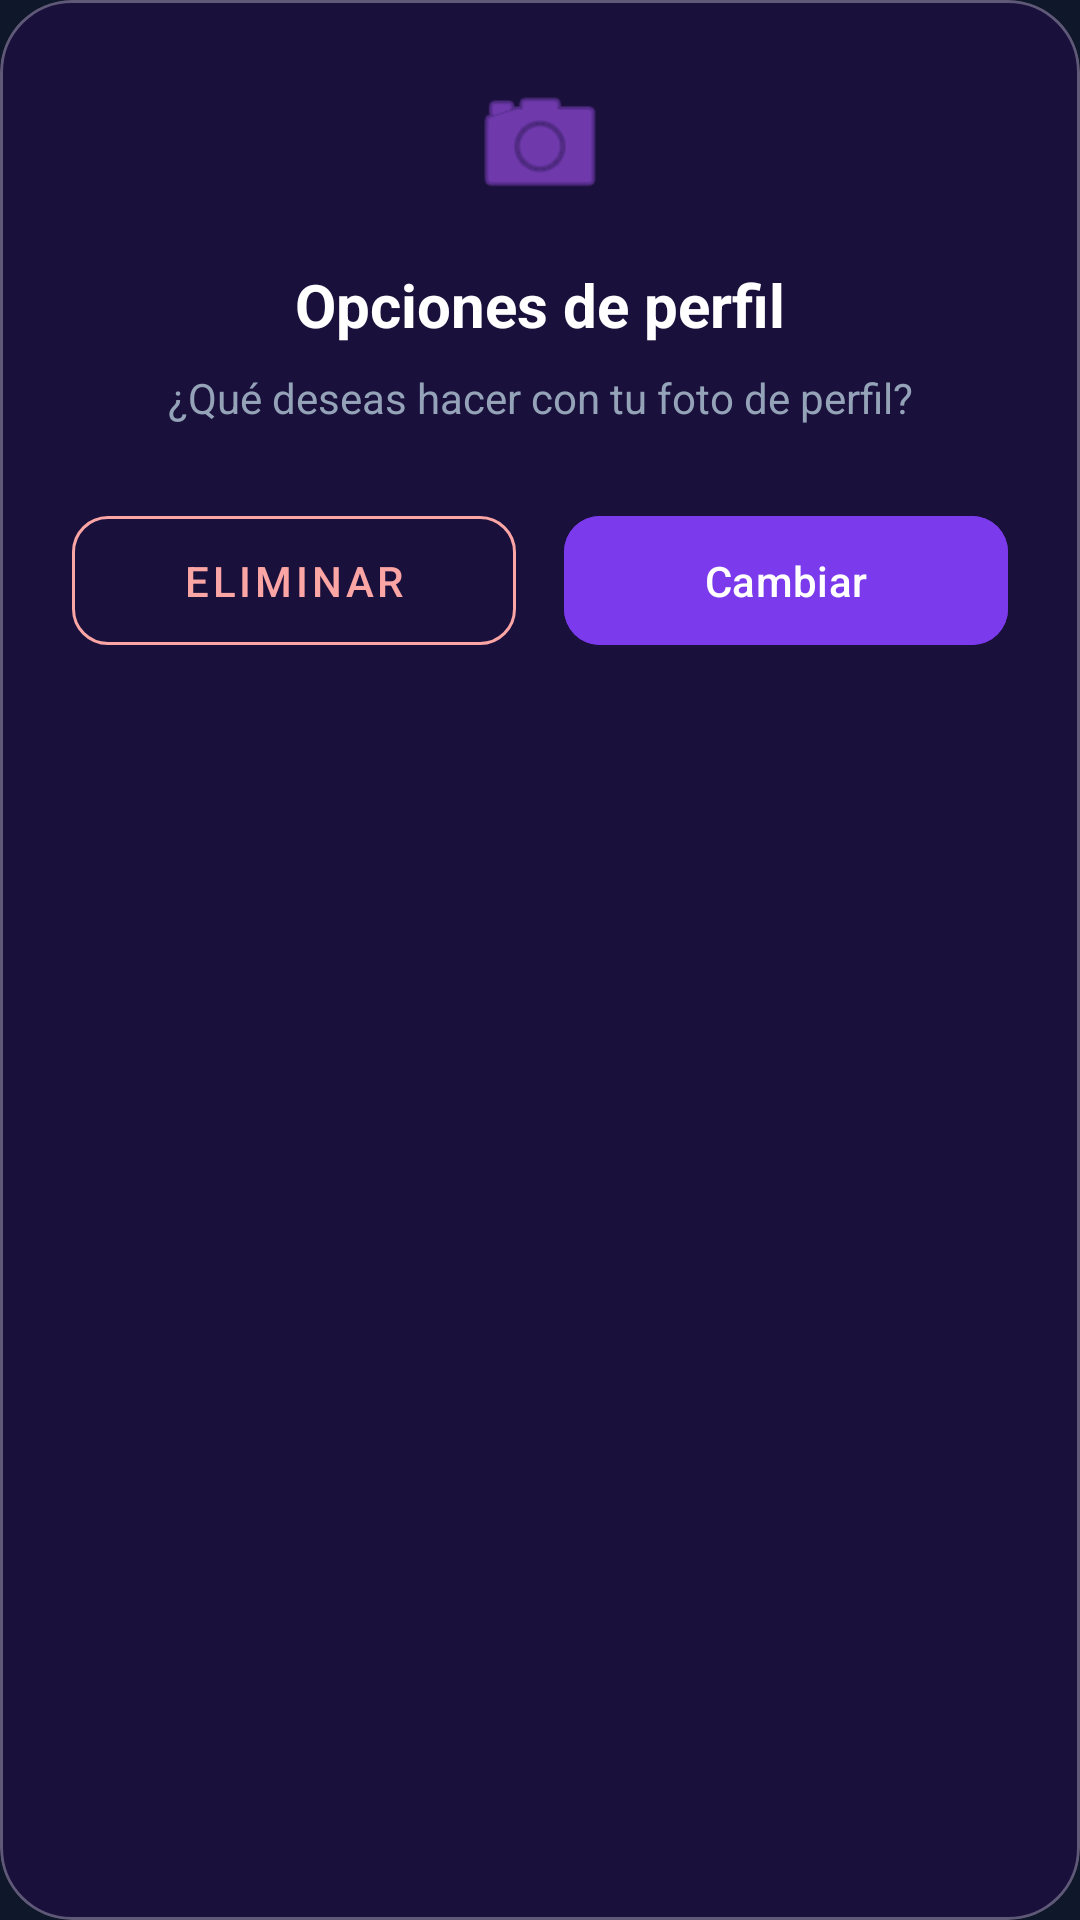

Screen size 1080px x 1920px. Icon name, then its box in pixels as (x1, y1, x2, y2):
camera: (484, 98, 596, 186)
